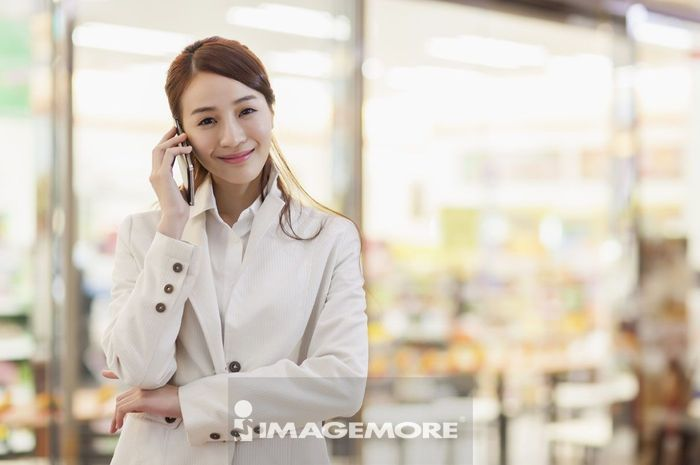phone: (174, 115, 196, 208)
talk: (151, 91, 263, 221)
